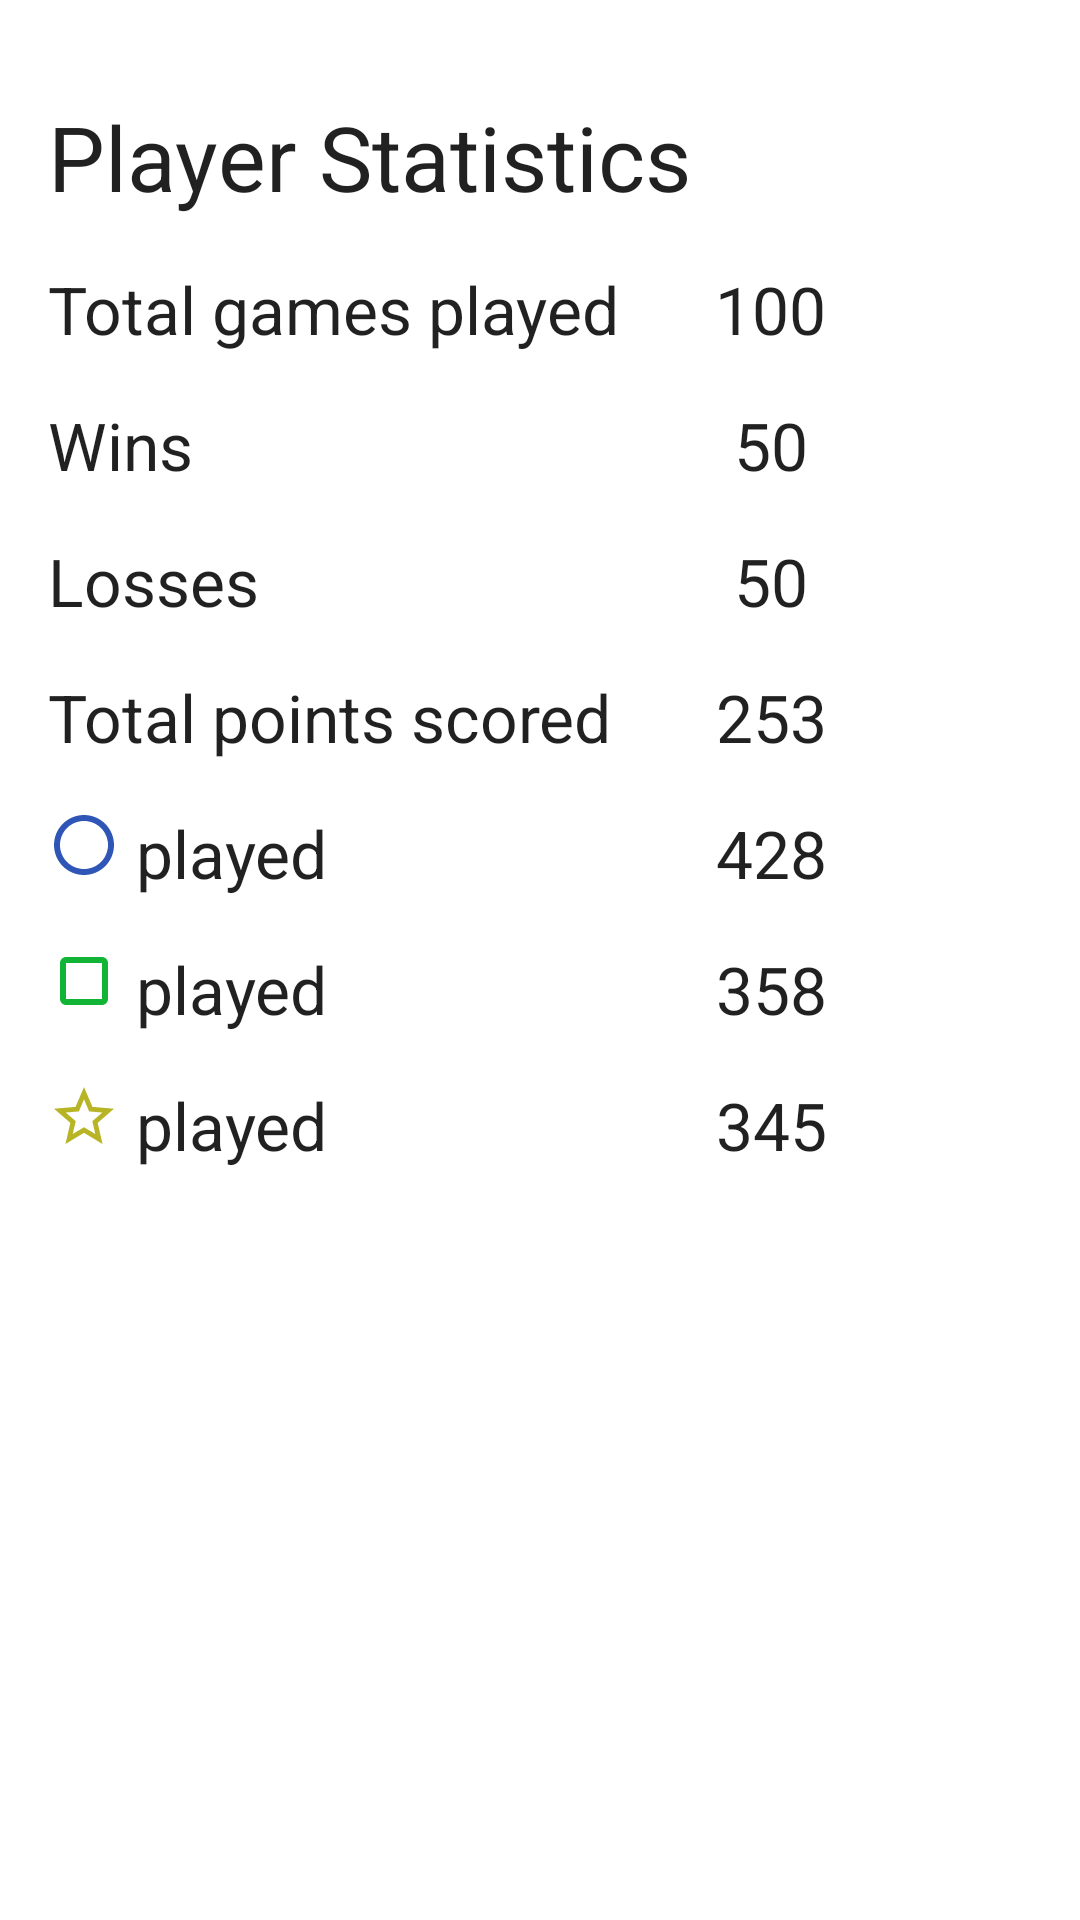

Named icons in this screenshot (1080×1920) and their centers, (x=x, y=y):
circle: (x=84, y=845)
square: (x=84, y=981)
star: (x=84, y=1115)
